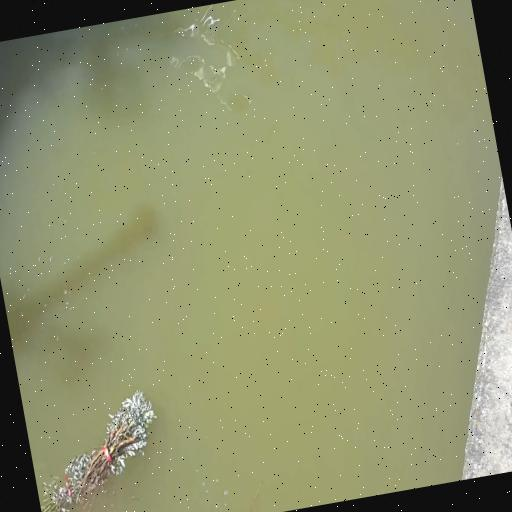twig: (23, 382, 176, 512)
